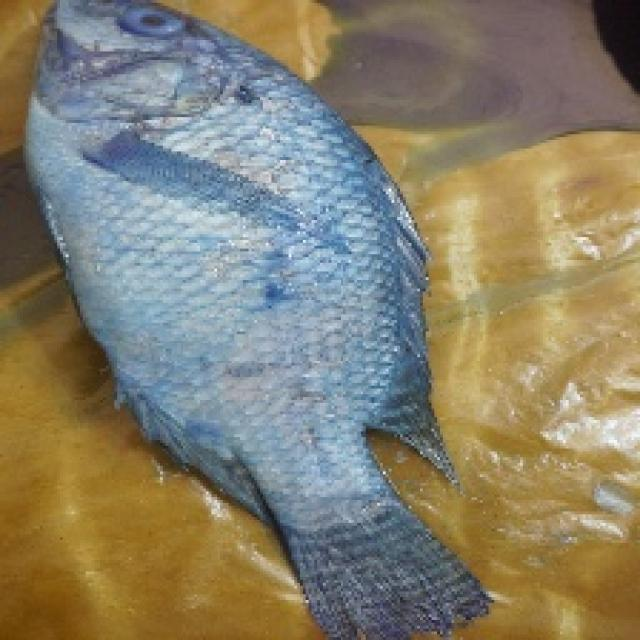Non-Fresh: (45, 48, 362, 432), (111, 0, 197, 51)
